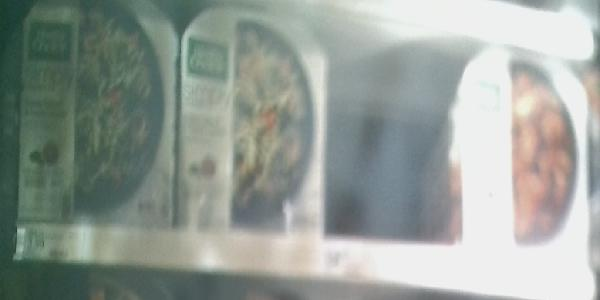pizza1: (16, 1, 178, 225), (181, 1, 333, 230), (458, 44, 591, 244)
